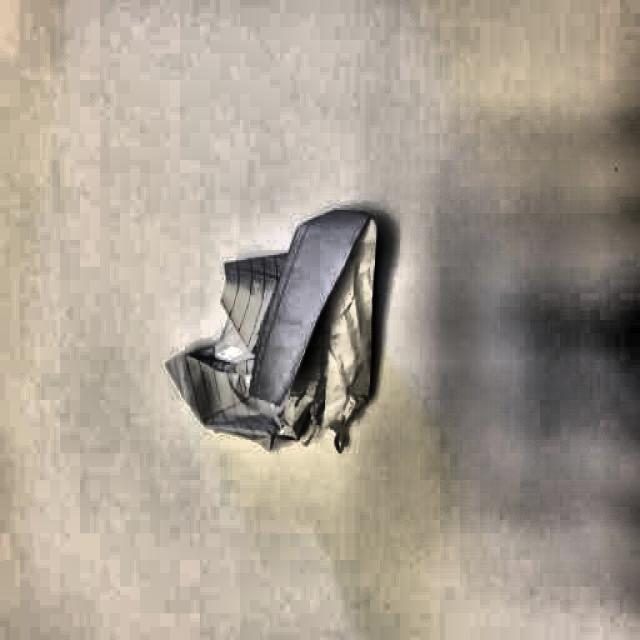paper: (160, 210, 383, 448)
